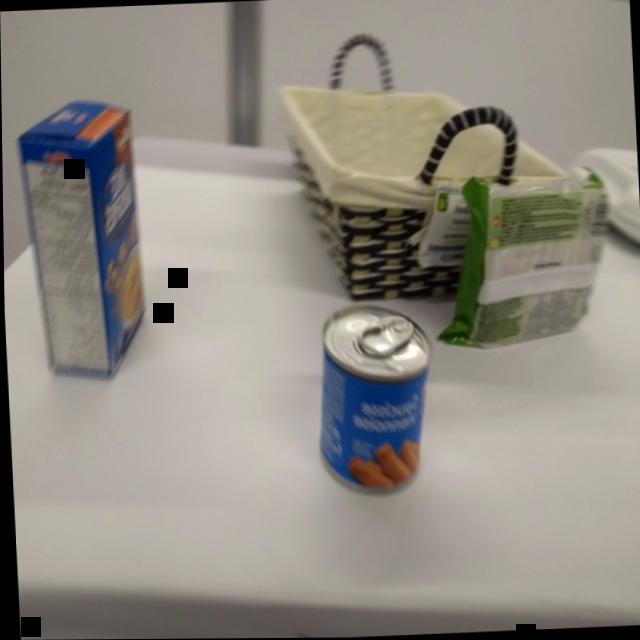cereal: (8, 91, 153, 387)
noodles: (423, 160, 620, 357)
sausages: (305, 297, 440, 507)
